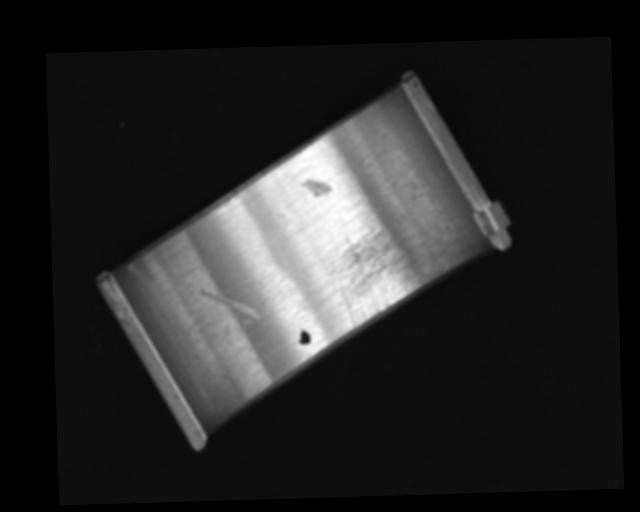blot: (297, 329, 311, 346)
bruise: (300, 179, 333, 198)
nick: (201, 288, 261, 320), (253, 292, 275, 367)
scratch: (323, 223, 442, 330)
